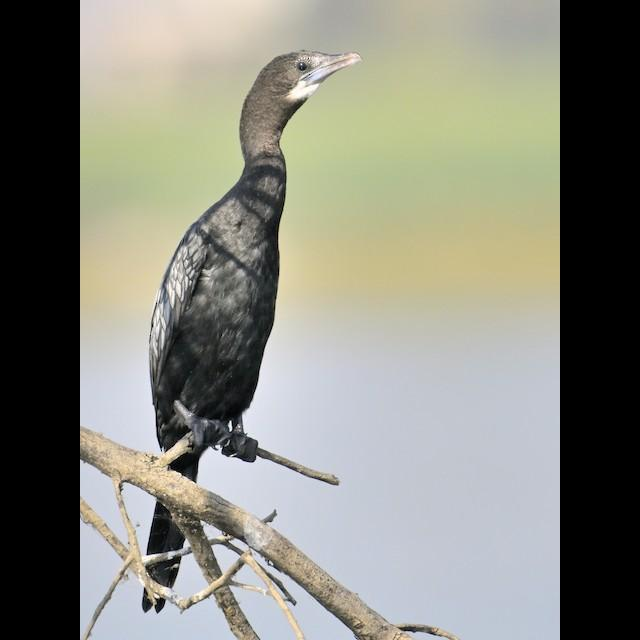cormorant: (142, 51, 372, 611)
